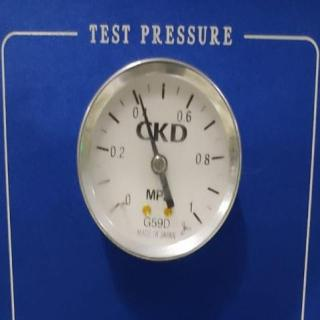gauge: (60, 47, 256, 317), (108, 193, 132, 215), (187, 202, 205, 226), (150, 153, 168, 175), (135, 90, 145, 104)
